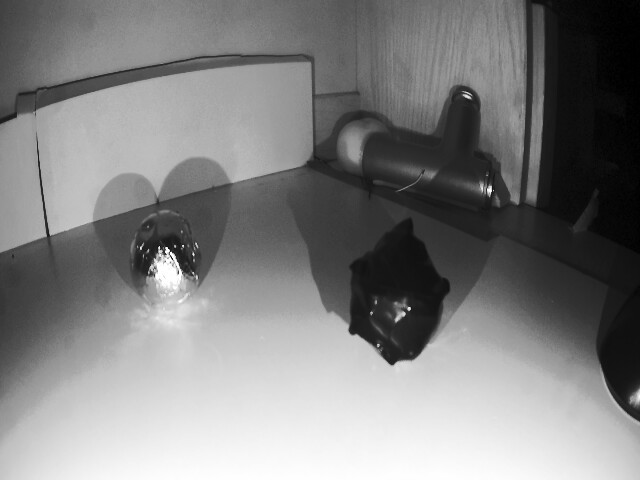black: (340, 224, 456, 366)
silver: (118, 213, 212, 321)
